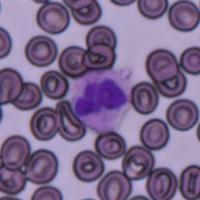N: (70, 67, 132, 134)
